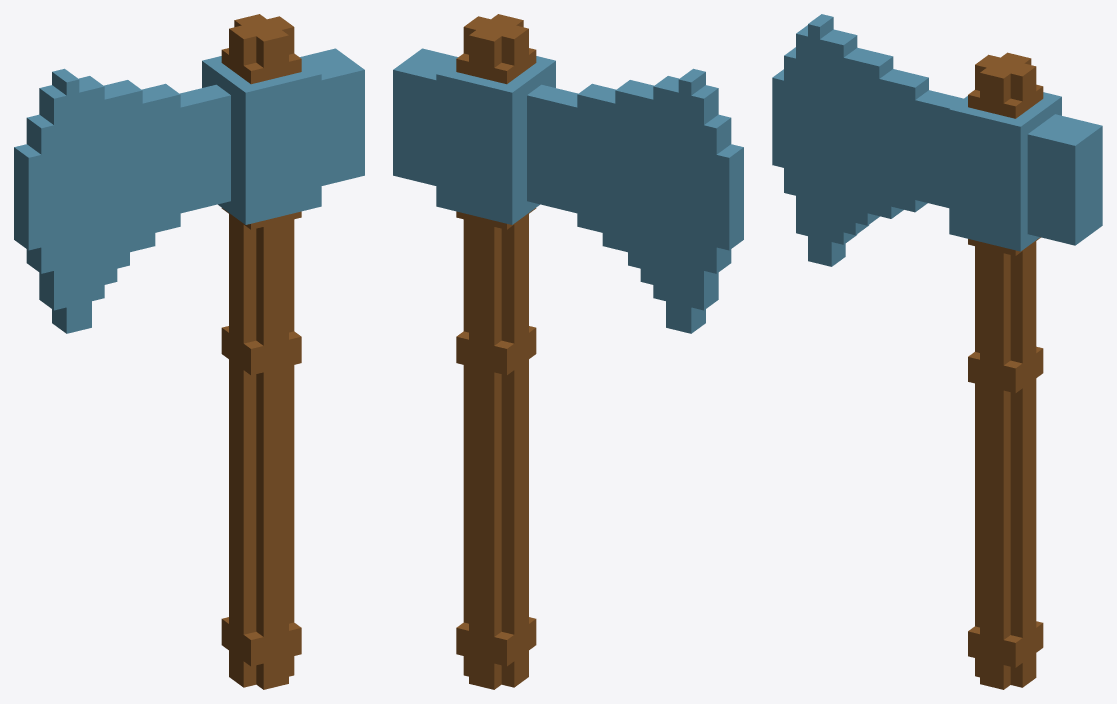
File: Mithril Axe.fbx
3 views of the same model, side by side, from view 1: azimuth 30°, elevation 25°; view 2: azimuth 150°, elevation 25°; view 3: azimuth 330°, elevation 25° (orthographic). The views are drawn at different scales.
Parts seen in each view (by area): view 1: Mithril Axe; view 2: Mithril Axe; view 3: Mithril Axe.
Boxes of the visible parts, x1,y1,x2,y2 form: Mithril Axe: (14, 14, 364, 689); Mithril Axe: (393, 14, 743, 689); Mithril Axe: (772, 14, 1102, 689).
Size of the model in its own units: 0.12 by 0.52 by 0.98.
1 material, 1 textured.
